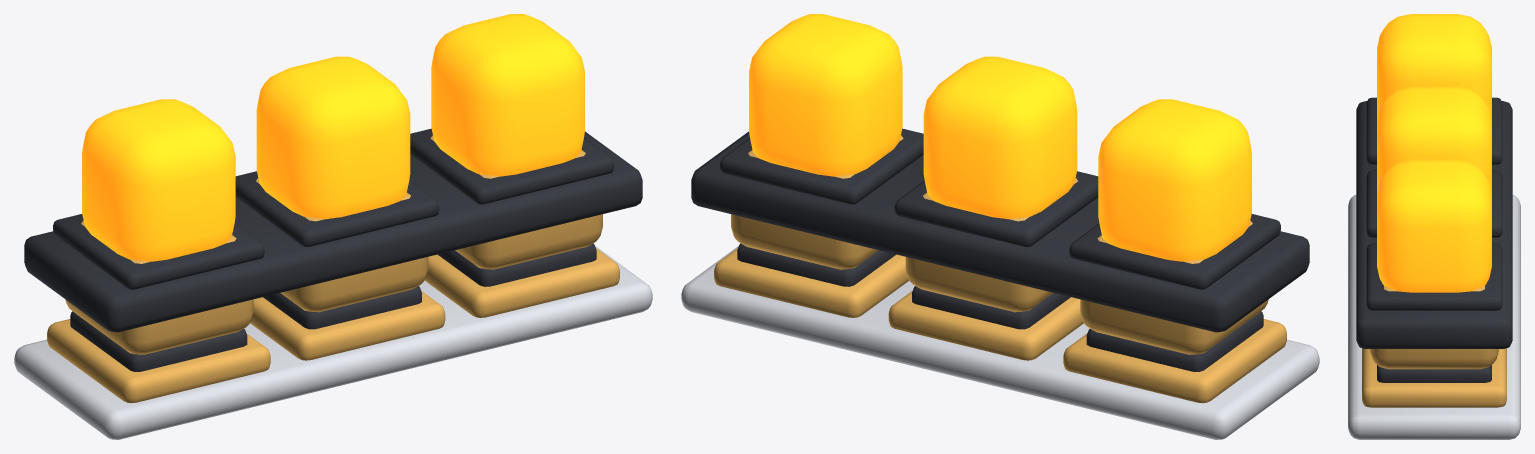
The model's file is slug_pack.glb.
3 renders of one model, left to right at view 1: azimuth 30°, elevation 25°; view 2: azimuth 150°, elevation 25°; view 3: azimuth 270°, elevation 25°, orthographic. The views are drawn at different scales.
Parts seen in each view (by area): view 1: slug_pack; view 2: slug_pack; view 3: slug_pack.
Part boxes in pixels (x1,y1,x2,y2): slug_pack: (14,14,652,439); slug_pack: (681,14,1319,439); slug_pack: (1348,14,1520,439).
Bounding box in the file's own units: 0.517 × 0.242 × 0.165.
